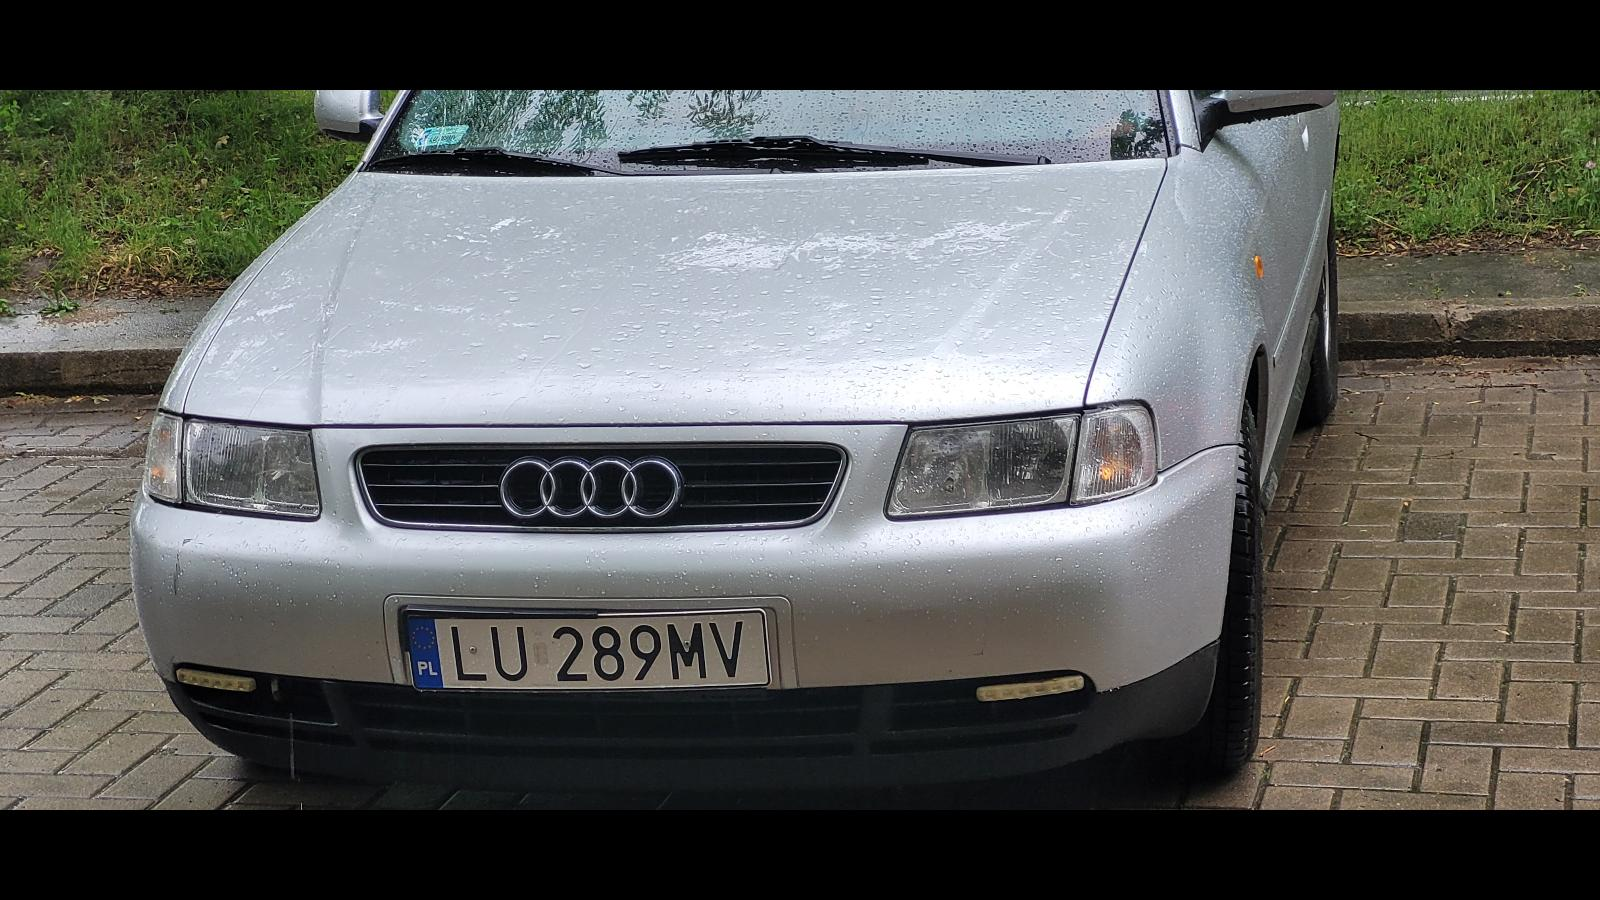plates: (401, 604, 773, 692)
